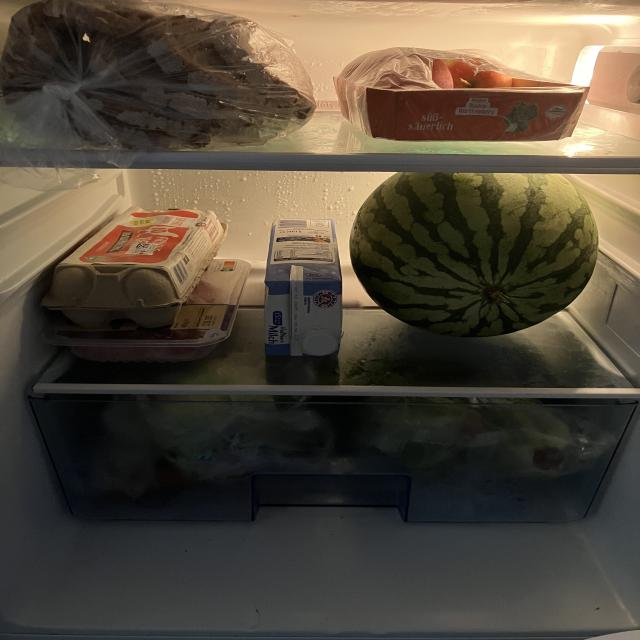Apples: (328, 47, 592, 142)
Eggs: (43, 202, 226, 316)
Milk: (260, 216, 344, 373)
Pork: (72, 252, 246, 364)
Vegetable: (371, 393, 602, 487)
Watermelon: (348, 161, 602, 341)
bread: (6, 0, 316, 155)
cabbage: (148, 362, 282, 480)
